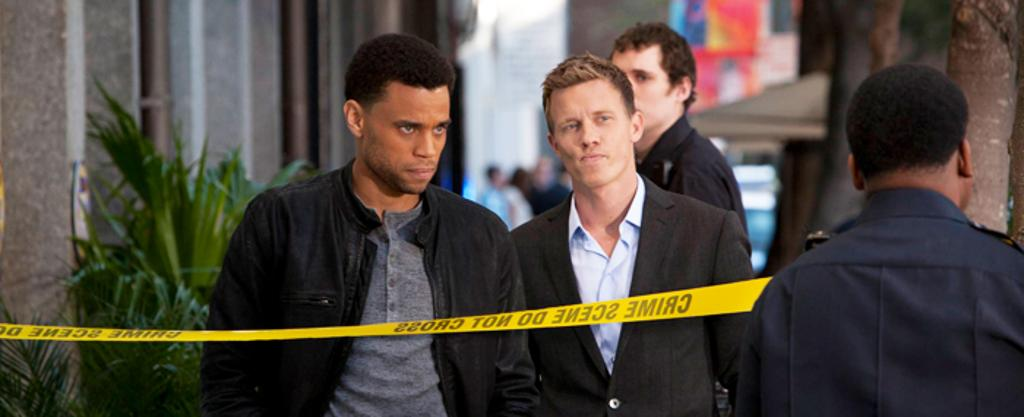face: (363, 92, 451, 193), (550, 88, 631, 188), (606, 54, 668, 130)
